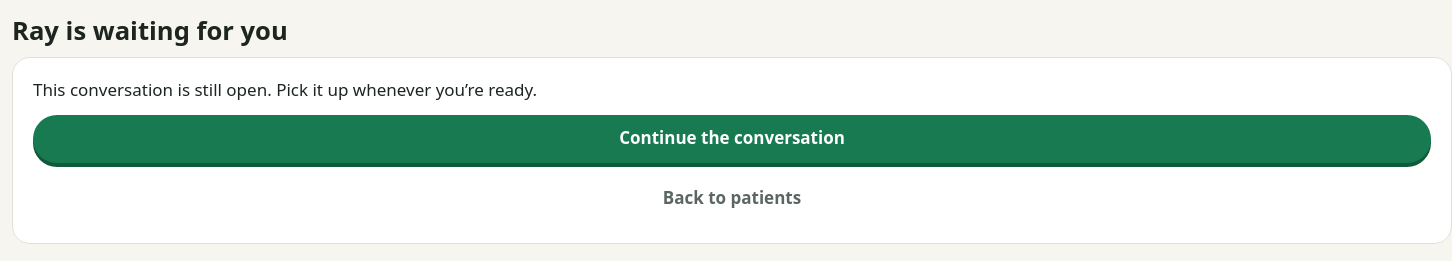
Scenario: a conversation the resident never spoke in › still open (only Ray’s opening line saved, as when it was opened and left): offers to continue it
The width and height of the screenshot is (1452, 261).
Expected: the text "This conversation is still open. Pick it up whenever you’re ready." is shown, [33, 78, 537, 101]
Click the button "Continue the conversation": (732, 139) [33, 115, 1431, 163]
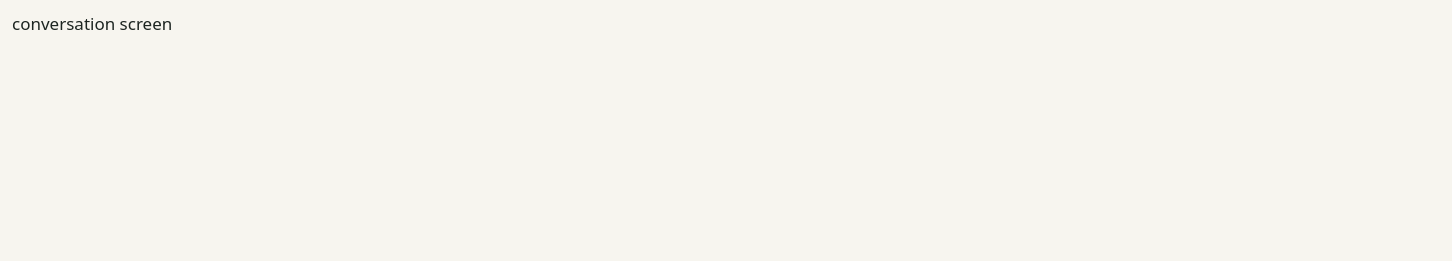
Expected: the text "conversation screen" is shown, [12, 12, 172, 35]
